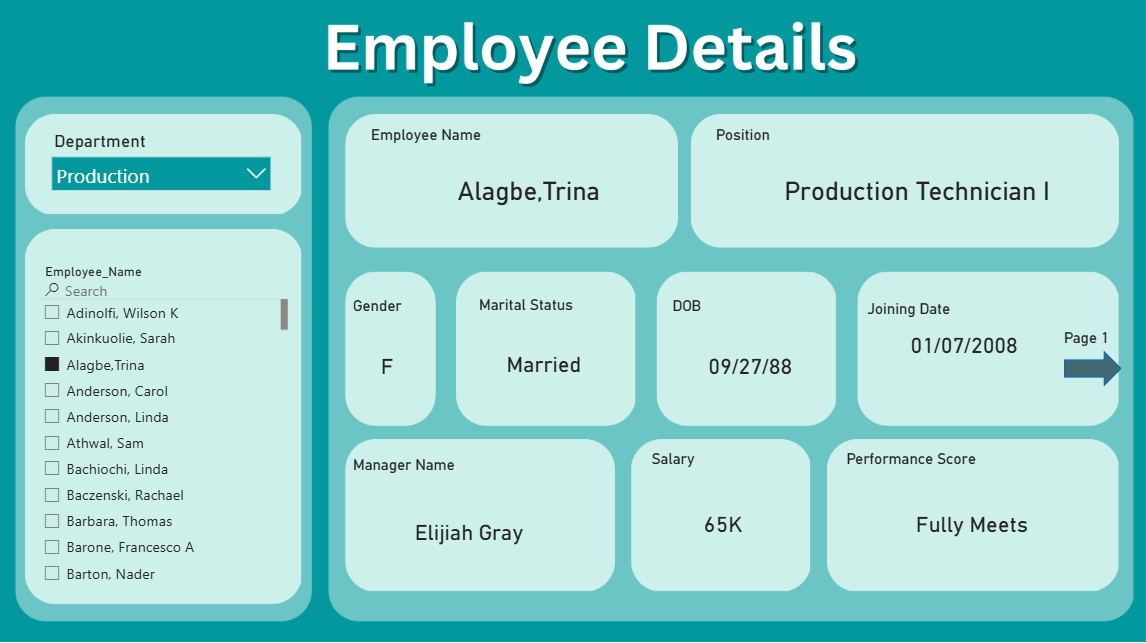

This screenshot's page, from the dashboard's own definition file:
{"tool":"powerbi","page":{"name":"Page 2","canvas":[1280,720],"ordinal":1},"visuals":[{"type":"shape","title":"Page 1","box":[1184,368,64,64],"z":0},{"type":"card","title":"Joining Date","fields":{"Values":["Min(HRDataset.DateofHire)"]},"box":[960,336,224,80],"z":1000},{"type":"card","title":"Position","fields":{"Values":["Min(HRDataset.Position)"]},"box":[792,144,456,120],"z":2000},{"type":"slicer","fields":{"Values":["HRDataset.Employee_Name"]},"box":[38.7,291.2,287.8,366.3],"z":3000},{"type":"slicer","fields":{"Values":["HRDataset.Department"]},"box":[48,144,264,96],"z":4000},{"type":"card","title":"Employee Name","fields":{"Values":["Min(HRDataset.Employee_Name)"]},"box":[408,144,360,120],"z":5000},{"type":"card","title":"Performance Score","fields":{"Values":["Min(HRDataset.PerformanceScore)"]},"box":[936,504,288,144],"z":5001},{"type":"card","title":"Salary","fields":{"Values":["Sum(HRDataset.Salary)"]},"box":[720,504,168,144],"z":5002},{"type":"card","title":"Manager Name","fields":{"Values":["Min(HRDataset.ManagerName)"]},"box":[389,509.6,267.3,147.9],"z":5003},{"type":"card","title":"Gender","fields":{"Values":["Min(HRDataset.Sex)"]},"box":[389,333.3,85.3,133.1],"z":5004},{"type":"card","title":"Marital Status","fields":{"Values":["Min(HRDataset.MaritalDesc)"]},"box":[527.8,332.1,153.6,131.9],"z":5005},{"type":"card","title":"DOB","fields":{"Values":["Min(HRDataset.DOB)"]},"box":[742.7,333.3,182,133.1],"z":5006}]}

Visuals, with their boxes in screenshot pixels (x1, y1, x2, y2), scaled from the page's 1280x720 canvas onto the 1146x643 screenshot:
"Page 1" shape: select_region(1060, 329, 1117, 386)
"Joining Date" card: select_region(860, 300, 1060, 372)
"Position" card: select_region(709, 129, 1117, 236)
slicer - HRDataset.Employee_Name: select_region(35, 260, 292, 587)
slicer - HRDataset.Department: select_region(43, 129, 279, 214)
"Employee Name" card: select_region(365, 129, 688, 236)
"Performance Score" card: select_region(838, 450, 1096, 579)
"Salary" card: select_region(645, 450, 795, 579)
"Manager Name" card: select_region(348, 455, 588, 587)
"Gender" card: select_region(348, 298, 425, 417)
"Marital Status" card: select_region(473, 297, 610, 414)
"DOB" card: select_region(665, 298, 828, 417)
